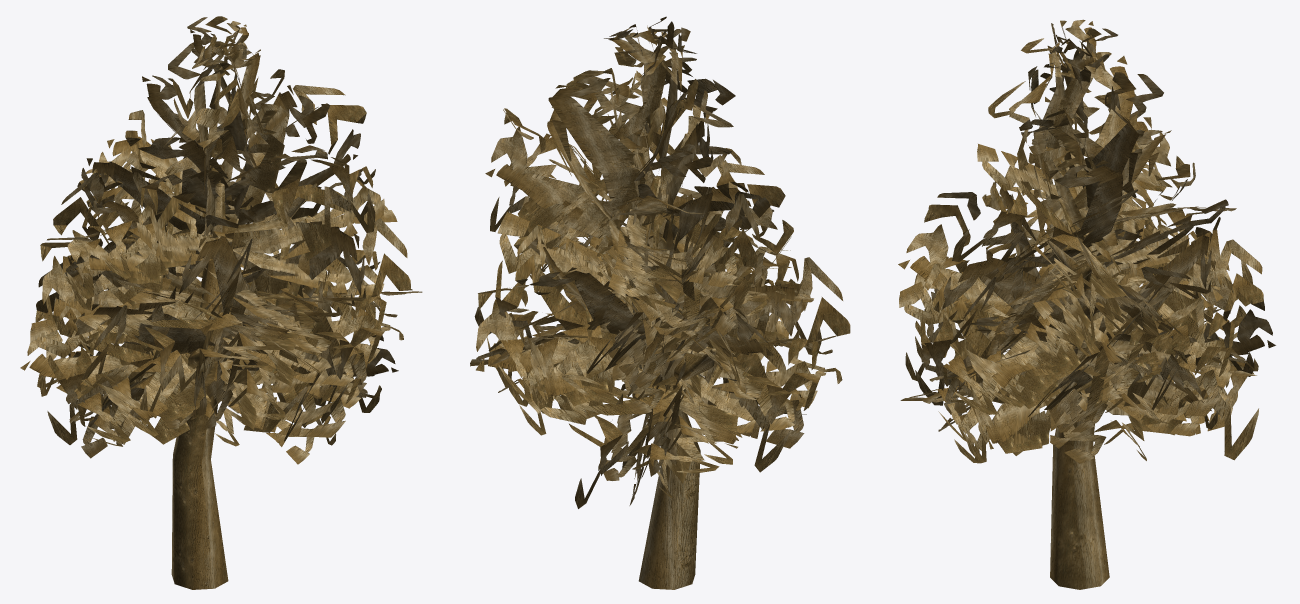
Rendered from tree.fbx.
The picture shows the model from 3 angles, left to right: view 1: azimuth 30°, elevation 25°; view 2: azimuth 150°, elevation 25°; view 3: azimuth 270°, elevation 25°; orthographic projection.
Visible parts, largest first — view 1: tree-stylized-04-green; view 2: tree-stylized-04-green; view 3: tree-stylized-04-green.
Part boxes in pixels (bbox=[...]): tree-stylized-04-green: bbox=[20, 16, 422, 589]; tree-stylized-04-green: bbox=[470, 16, 850, 589]; tree-stylized-04-green: bbox=[898, 19, 1275, 589].
Size of the model in its own units: 900 by 1351 by 861.
Materials: 2 (2 with a texture image).
